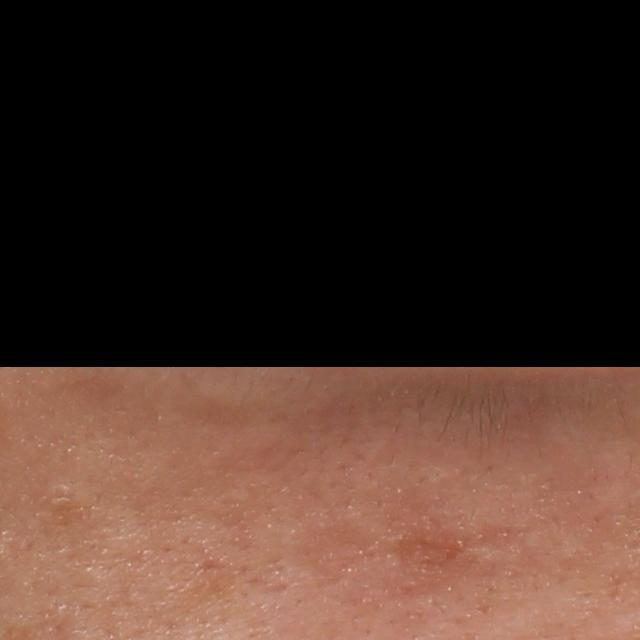hypertrophic_scar: (464, 539, 529, 570)
